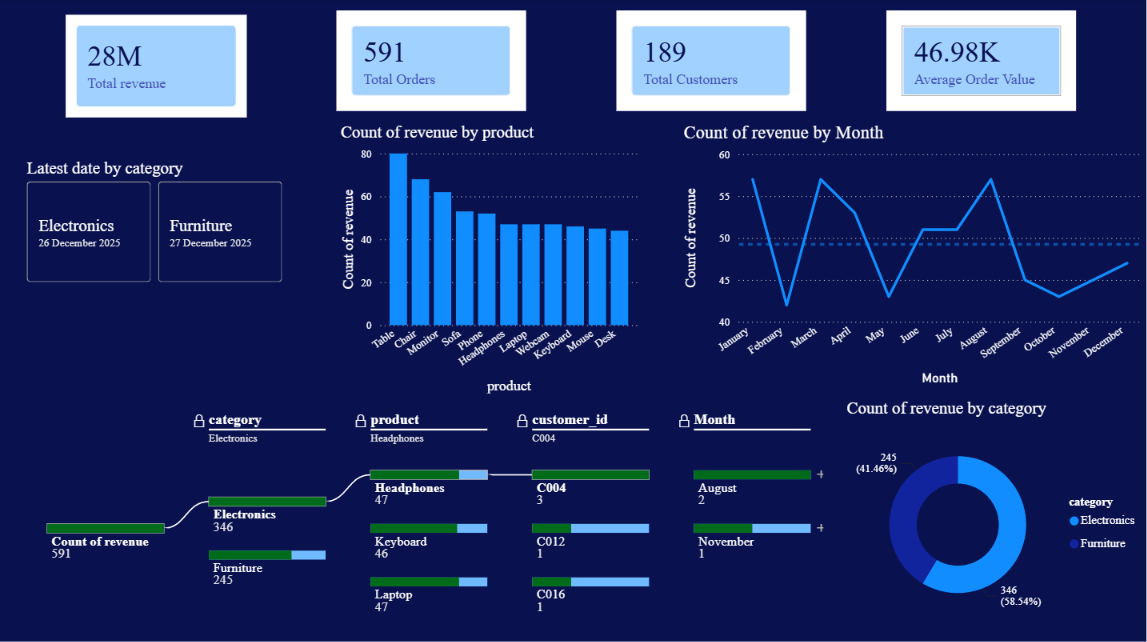

The page's visual inventory and layout, read from the dashboard file:
{"tool":"powerbi","page":{"name":"Page 1","canvas":[1280,720],"ordinal":0},"visuals":[{"type":"cardVisual","fields":{"Data":["CountNonNull(processed_sales.order_id)"]},"box":[230.4,24.1,148.4,124.3],"z":0},{"type":"cardVisual","fields":{"Data":["Count(processed_sales.customer_id)"]},"box":[439.1,24.1,178.6,124.3],"z":1000},{"type":"cardVisual","fields":{"Data":["processed_sales.Average Order Value"]},"box":[670.8,24.1,211.1,124.3],"z":2000},{"type":"cardVisual","fields":{"Data":["Sum(processed_sales.revenue)"]},"box":[26.5,24.1,161.7,124.3],"z":3000},{"type":"lineChart","fields":{"Category":["processed_sales.date.Variation.Date Hierarchy.Quarter","processed_sales.date.Variation.Date Hierarchy.Month","processed_sales.date.Variation.Date Hierarchy.Day"],"Y":["CountNonNull(processed_sales.revenue)"]},"box":[26.5,190.6,428.3,279.9],"z":4000},{"type":"donutChart","fields":{"Category":["processed_sales.category"],"Y":["CountNonNull(processed_sales.revenue)"]},"box":[932.6,24.1,310.1,281.1],"z":5000},{"type":"lineStackedColumnComboChart","fields":{"Category":["processed_sales.product"],"Y":["CountNonNull(processed_sales.revenue)"]},"box":[894,330.6,340.2,306.4],"z":6000},{"type":"advancedSlicerVisual","fields":{"Values":["processed_sales.category"],"Label":["Max(processed_sales.date)"]},"box":[507.9,200.3,310.1,296.8],"z":6001}]}

Visuals, with their boxes in screenshot pixels (x1, y1, x2, y2), scaled from the page's 1280x720 canvas onto the 1147x642 screenshot:
cardVisual - CountNonNull(processed_sales.order_id): crop(206, 21, 339, 132)
cardVisual - Count(processed_sales.customer_id): crop(393, 21, 554, 132)
cardVisual - processed_sales.Average Order Value: crop(601, 21, 790, 132)
cardVisual - Sum(processed_sales.revenue): crop(24, 21, 169, 132)
lineChart - processed_sales.date.Variation.Date Hierarchy.Quarter x processed_sales.date.Variation.Date Hierarchy.Month: crop(24, 170, 408, 420)
donutChart - processed_sales.category x CountNonNull(processed_sales.revenue): crop(836, 21, 1114, 272)
lineStackedColumnComboChart - processed_sales.product x CountNonNull(processed_sales.revenue): crop(801, 295, 1106, 568)
advancedSlicerVisual - processed_sales.category x Max(processed_sales.date): crop(455, 179, 733, 443)
